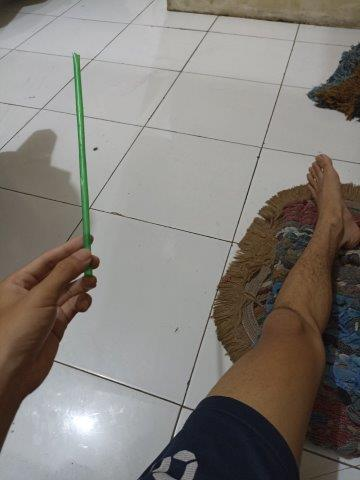sedotan: (73, 54, 93, 275)
